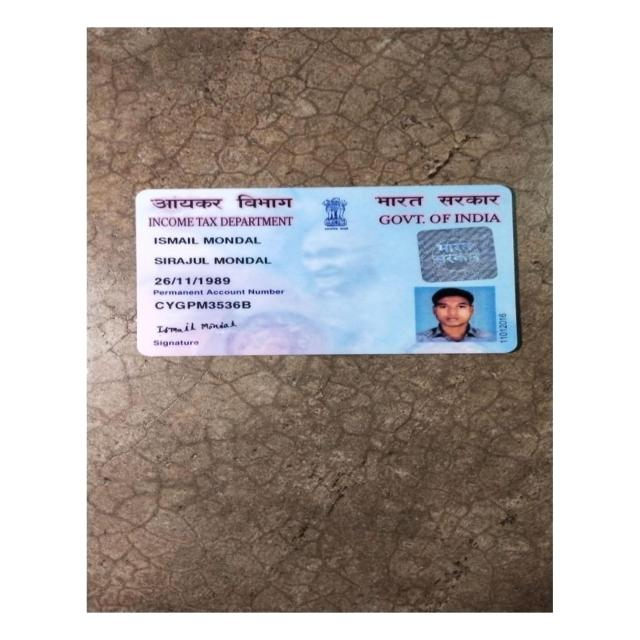pan_card: (134, 186, 515, 354)
